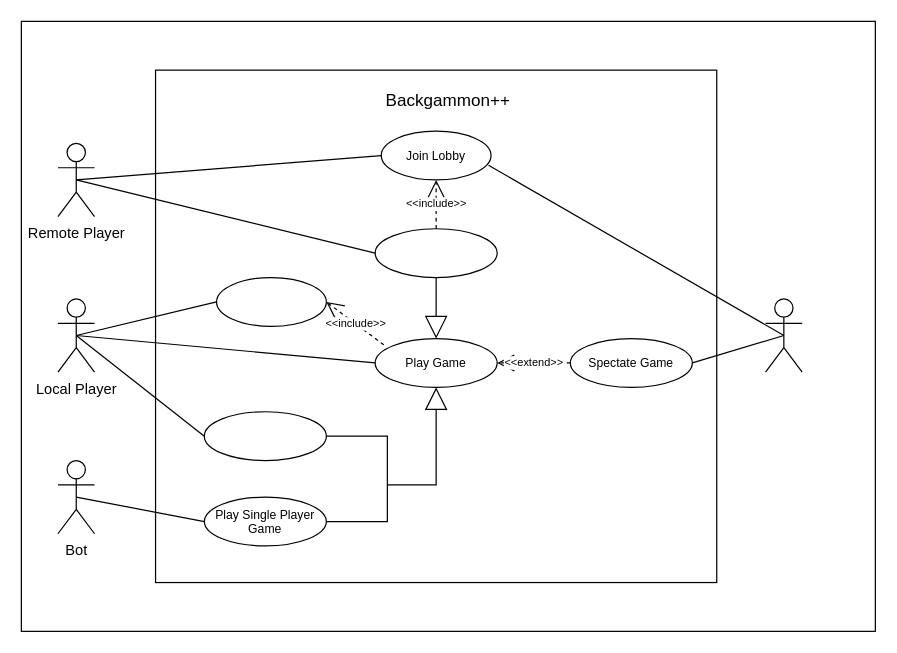
The diagram is 897 pixels wide and 653 high, and some of its shapes have lost their labels. The shapes that lost their labels are listed below. From the top down, each one's box as (x1, y1, x2, y2) in pixels, then its label:
(374, 228, 497, 278): Play Network Game
(215, 276, 326, 326): Create Lobby
(764, 298, 802, 372): Spectator
(203, 411, 326, 461): Play Local Game
